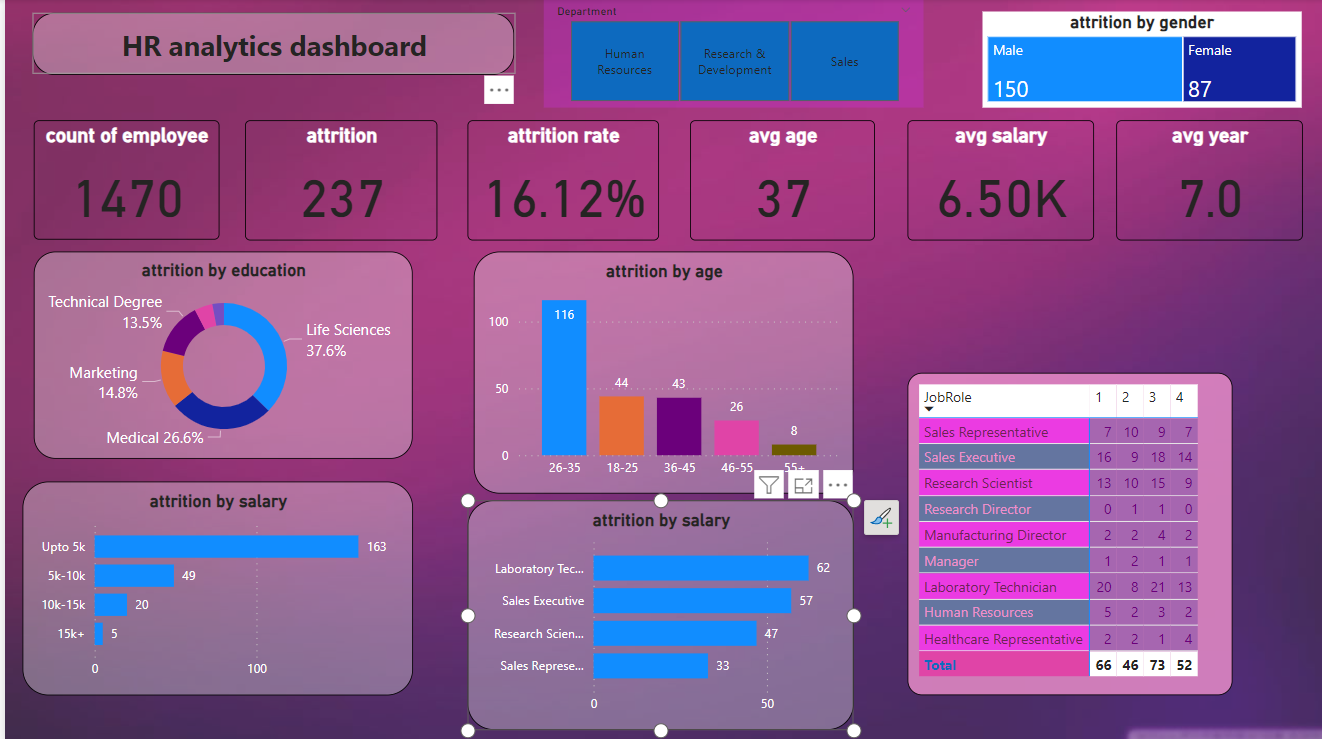

The dashboard page shown, as its layout file describes it:
{"tool":"powerbi","page":{"name":"Page 1","canvas":[1280,720],"ordinal":0},"visuals":[{"type":"card","title":"count of employee","fields":{"Values":["CountNonNull(Sheet1.EmpID)"]},"box":[27.4,116.9,178.9,115.4],"z":0},{"type":"card","title":"attrition","fields":{"Values":["Sum(Sheet1.attrition_ count)"]},"box":[231.6,117,185.7,115.8],"z":1000},{"type":"card","title":"attrition rate","fields":{"Values":["Sheet1.a_rate"]},"box":[446.2,117,184.5,115.8],"z":2000},{"type":"card","title":"avg age","fields":{"Values":["Avg(Sheet1.Age)"]},"box":[660.9,117,178.5,115.8],"z":3000},{"type":"card","title":"avg salary","fields":{"Values":["Avg(Sheet1.MonthlyIncome)"]},"box":[870.8,117,179.7,115.8],"z":4000},{"type":"card","title":"avg year","fields":{"Values":["Avg(Sheet1.YearsAtCompany)"]},"box":[1072.2,117,179.7,115.8],"z":5000},{"type":"donutChart","title":"attrition by education","fields":{"Category":["Sheet1.EducationField"],"Y":["Sum(Sheet1.attrition_ count)"]},"box":[27.7,243.6,365.4,200.2],"z":6000},{"type":"columnChart","title":"attrition by age","fields":{"Category":["Sheet1.AgeGroup"],"Y":["Sum(Sheet1.attrition_ count)"]},"box":[452.3,243.6,366.6,234],"z":7000},{"type":"pivotTable","fields":{"Rows":["Sheet1.JobRole"],"Columns":["Sheet1.JobSatisfaction"],"Values":["Sum(Sheet1.attrition_ count)"]},"box":[870.8,360.6,313.6,311.2],"z":8000},{"type":"clusteredBarChart","title":"attrition by salary","fields":{"Category":["Sheet1.SalarySlab"],"Y":["Sum(Sheet1.attrition_ count)"]},"box":[17.3,466,376.6,206.3],"z":9000},{"type":"clusteredBarChart","title":"attrition by salary","fields":{"Y":["Sum(Sheet1.attrition_ count)"],"Category":["Sheet1.JobRole"]},"box":[446.2,483.6,372.7,221.9],"z":10000},{"type":"treemap","title":"attrition by gender","fields":{"Values":["Sum(Sheet1.attrition_ count)"],"Group":["Sheet1.Gender"]},"box":[943.3,12.5,307.9,92.5],"z":11000},{"type":"slicer","fields":{"Values":["Sheet1.Department"]},"box":[519.7,0,366.6,105],"z":12000},{"type":"textbox","box":[27,12.8,465.1,59.7],"z":13000}]}

Visuals, with their boxes in screenshot pixels (x1, y1, x2, y2), scaled from the page's 1280x720 canvas onto the 1322x739 screenshot:
"count of employee" card: <region>28, 120, 213, 238</region>
"attrition" card: <region>239, 120, 431, 239</region>
"attrition rate" card: <region>461, 120, 651, 239</region>
"avg age" card: <region>683, 120, 867, 239</region>
"avg salary" card: <region>899, 120, 1085, 239</region>
"avg year" card: <region>1107, 120, 1293, 239</region>
"attrition by education" donutChart: <region>29, 250, 406, 456</region>
"attrition by age" columnChart: <region>467, 250, 846, 490</region>
pivotTable - Sheet1.JobRole x Sheet1.JobSatisfaction: <region>899, 370, 1223, 690</region>
"attrition by salary" clusteredBarChart: <region>18, 478, 407, 690</region>
"attrition by salary" clusteredBarChart: <region>461, 496, 846, 724</region>
"attrition by gender" treemap: <region>974, 13, 1292, 108</region>
slicer - Sheet1.Department: <region>537, 0, 915, 108</region>
textbox: <region>28, 13, 508, 74</region>
